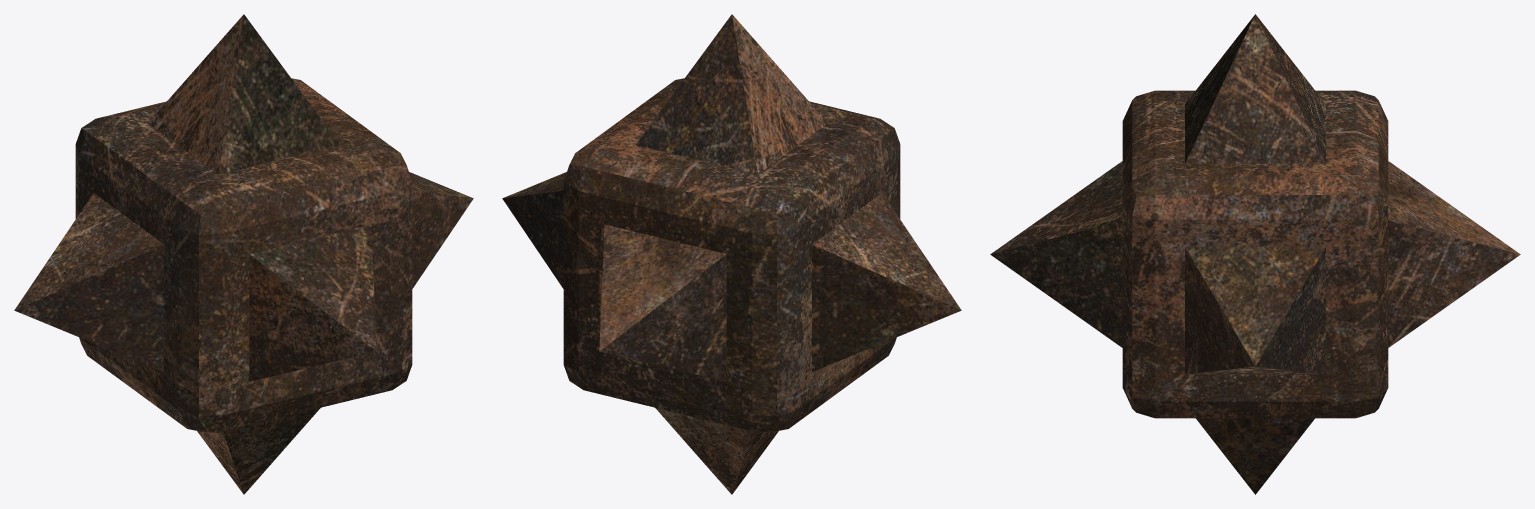
Rendered from pinchoi.fbx.
3 renders of one model, left to right at view 1: azimuth 30°, elevation 25°; view 2: azimuth 150°, elevation 25°; view 3: azimuth 270°, elevation 25°, orthographic.
Visible parts, largest first — view 1: Cube.001; view 2: Cube.001; view 3: Cube.001.
Boxes of the visible parts, bbox=[...] form: Cube.001: bbox=[14, 14, 473, 494]; Cube.001: bbox=[502, 14, 961, 494]; Cube.001: bbox=[990, 14, 1520, 494].
Bounding box in the file's own units: 399 × 399 × 399.
Materials: 1 (1 with a texture image).
